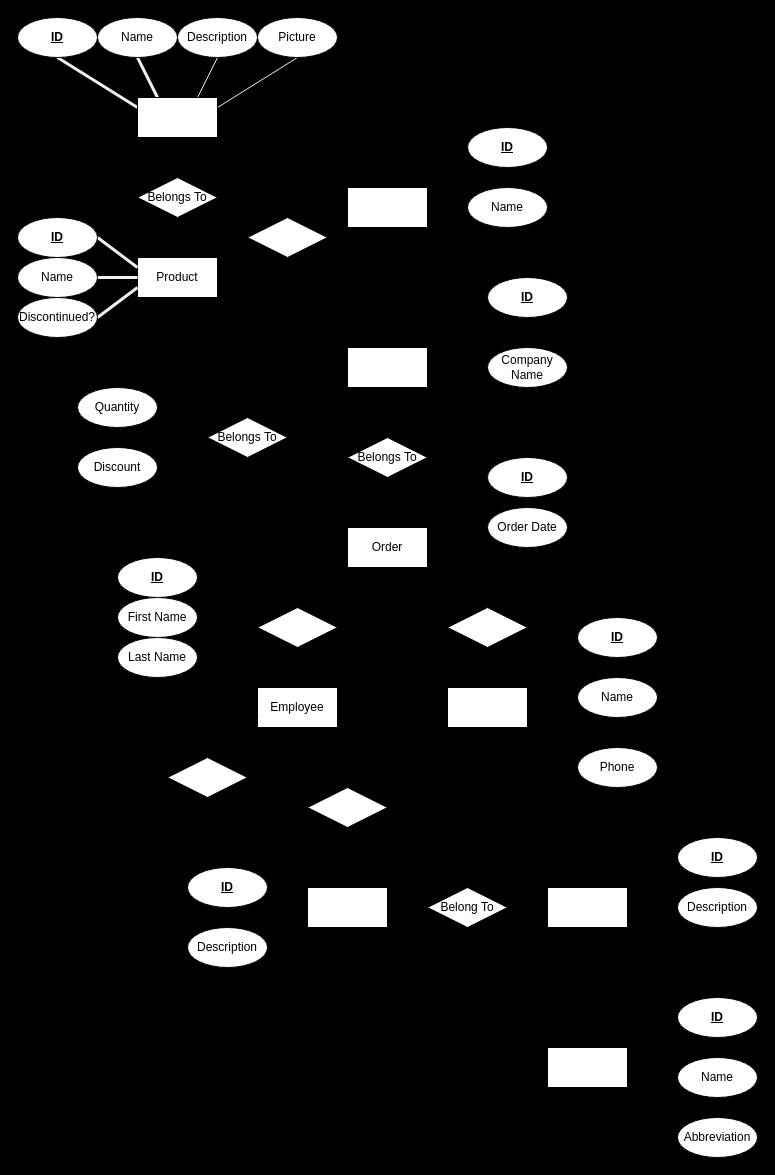
Image size: 775x1175. Some labels were removed from this diagram. The shapes that lost their labels are listed below. From the top down, each one's centre as x and y in pixels, then its label:
At pixel 177 117: "Category".
At pixel 387 207: "Supplier".
At pixel 287 237: "Supplied By".
At pixel 387 367: "Customer".
At pixel 297 627: "Worked By".
At pixel 487 627: "Shipped By".
At pixel 487 707: "Shipper".
At pixel 207 777: "Reports To".
At pixel 347 807: "Works In".
At pixel 347 907: "Territory".
At pixel 587 907: "Region".
At pixel 587 1067: "U.S. State".
